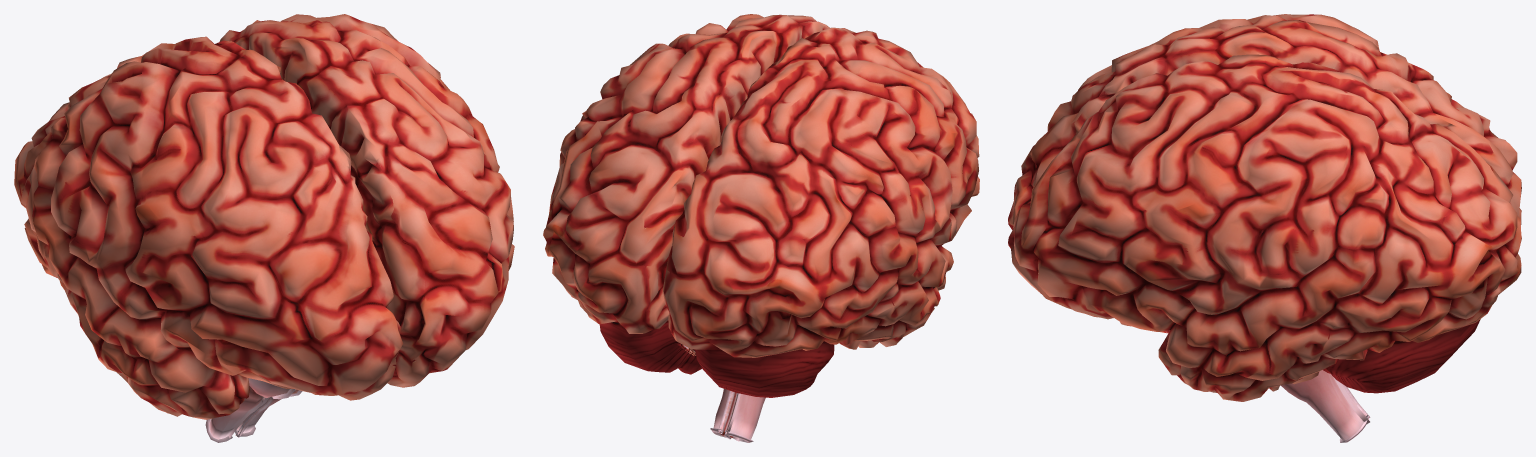
The model's file is Brain858.glb.
3 renders of one model, left to right at view 1: azimuth 30°, elevation 25°; view 2: azimuth 150°, elevation 25°; view 3: azimuth 270°, elevation 25°, orthographic. The views are drawn at different scales.
Parts seen in each view (by area): view 1: Object01, Object03; view 2: Object01, Object03; view 3: Object03, Object01.
Part boxes in pixels (x1=…): Object01: x1=14, y1=36, x2=403, y2=442; Object03: x1=219, y1=14, x2=514, y2=437; Object01: x1=662, y1=27, x2=979, y2=442; Object03: x1=543, y1=14, x2=829, y2=439; Object03: x1=1008, y1=54, x2=1521, y2=442; Object01: x1=1008, y1=14, x2=1521, y2=418.
Size of the model in its own units: 0.6904 by 0.7094 by 0.8427.
Materials: 1 (1 with a texture image).
